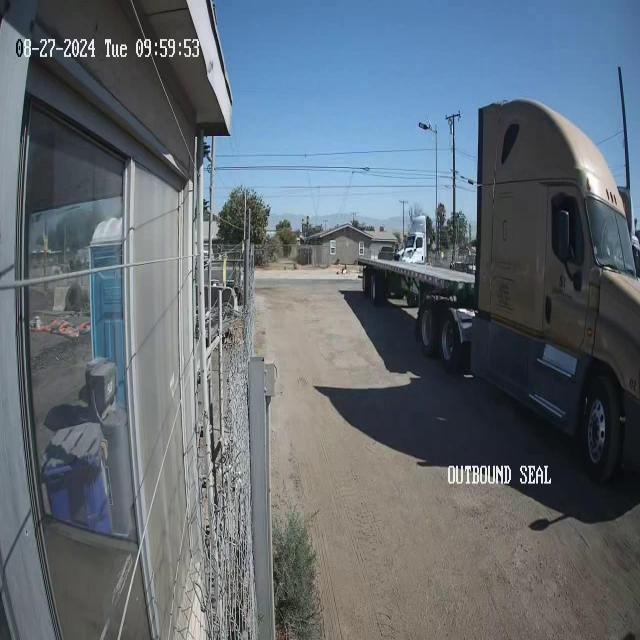TRUCK_IN: (357, 96, 639, 485)
